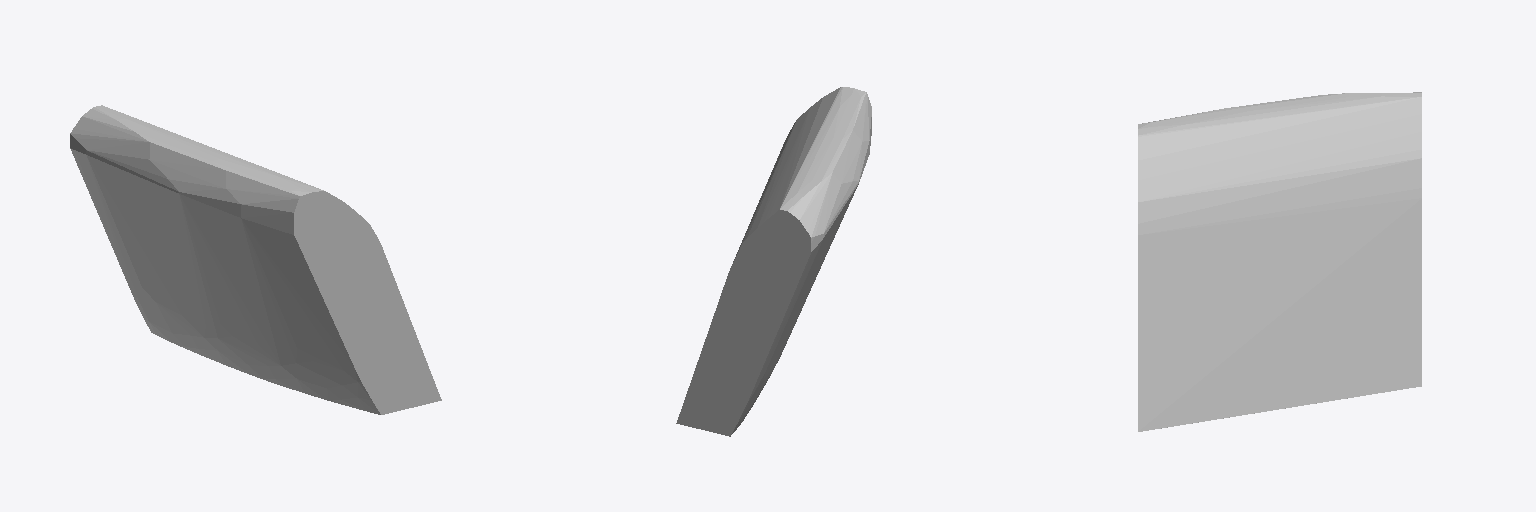
File: pan_collision_34.obj
The picture shows the model from 3 angles: view 1: azimuth 30°, elevation 25°; view 2: azimuth 150°, elevation 25°; view 3: azimuth 270°, elevation 25°; orthographic projection.
Bounding box in the file's own units: 0.0335 × 0.0336 × 0.0361.